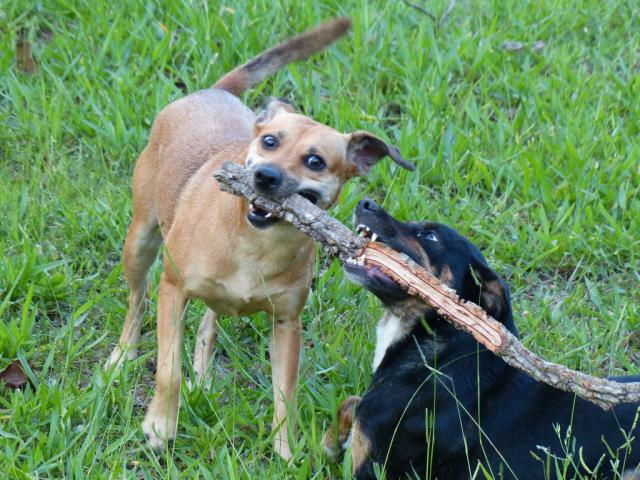Dog: (100, 14, 417, 468), (308, 197, 640, 480)
